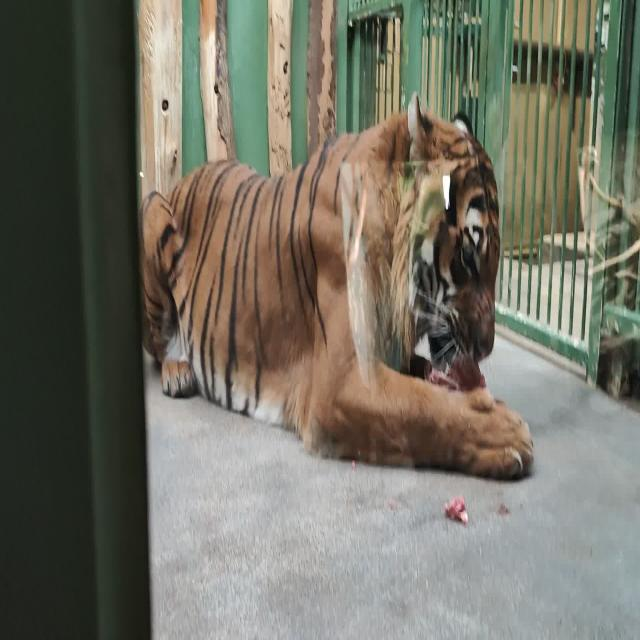tiger: (140, 91, 534, 481)
